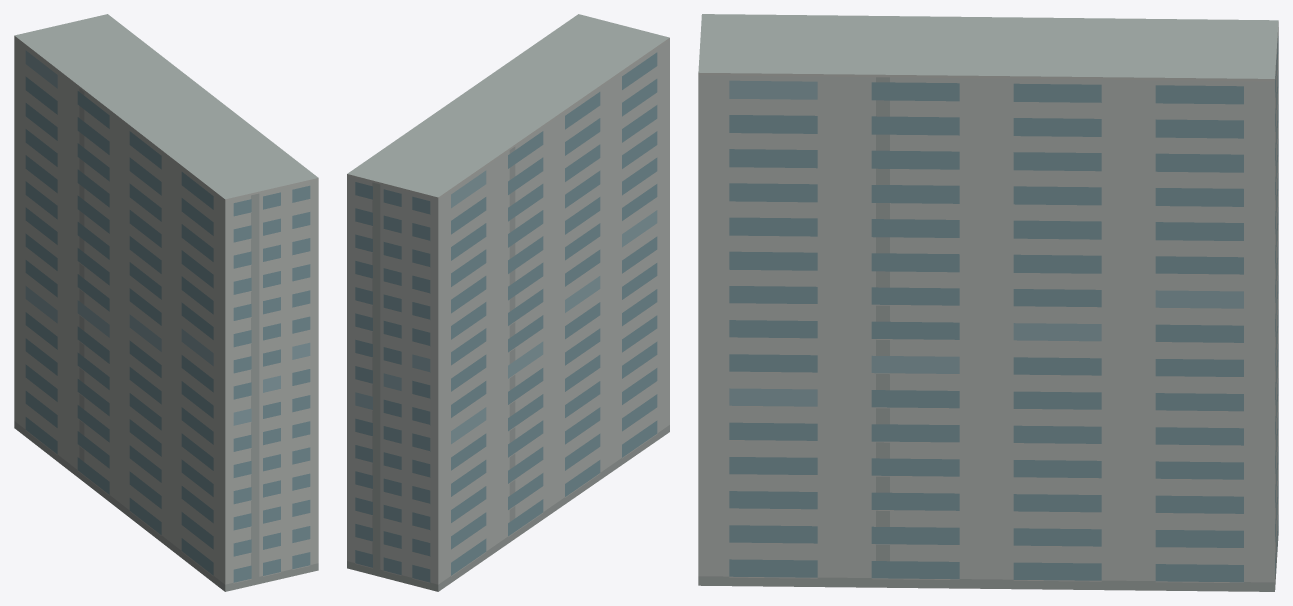
Rendered from residential-2db13f52-ca95-42b6-a072-a65ad0d1ff88.glb.
3 views of the same model, side by side, from view 1: azimuth 30°, elevation 25°; view 2: azimuth 150°, elevation 25°; view 3: azimuth 270°, elevation 25° (orthographic). The views are drawn at different scales.
Visible parts, largest first — view 1: residential-2db13f52-ca95-42b6-a072-a65ad0d1ff88.tmp; view 2: residential-2db13f52-ca95-42b6-a072-a65ad0d1ff88.tmp; view 3: residential-2db13f52-ca95-42b6-a072-a65ad0d1ff88.tmp.
Part boxes in pixels (bbox=[...]): residential-2db13f52-ca95-42b6-a072-a65ad0d1ff88.tmp: bbox=[14, 14, 318, 591]; residential-2db13f52-ca95-42b6-a072-a65ad0d1ff88.tmp: bbox=[347, 14, 669, 591]; residential-2db13f52-ca95-42b6-a072-a65ad0d1ff88.tmp: bbox=[698, 14, 1278, 591].
Size of the model in its own units: 13.32 by 49 by 50.24.
